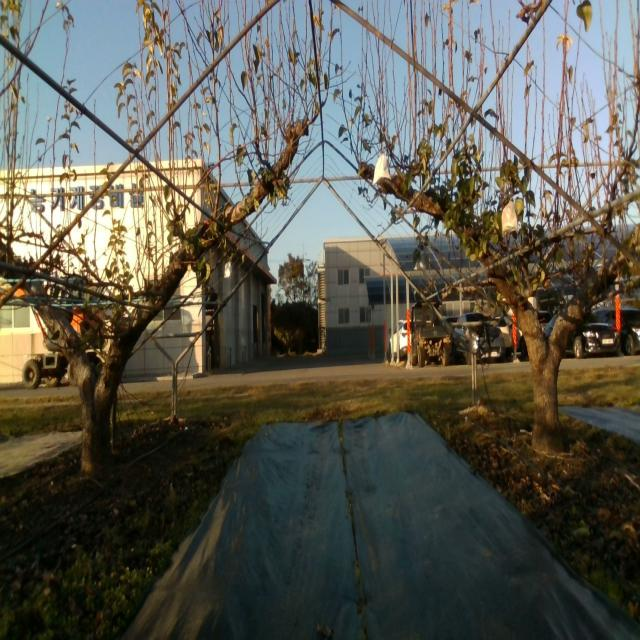pearbags: (501, 197, 519, 239), (372, 152, 391, 186)
